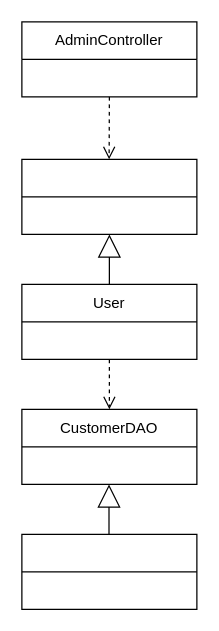
This 219x631 diagram has some shape labels left out. The centre of each missing label's shape, as x and y in pixels:
"Customer" goes at (x=109, y=571).
"UserDAO" goes at (x=109, y=196).
